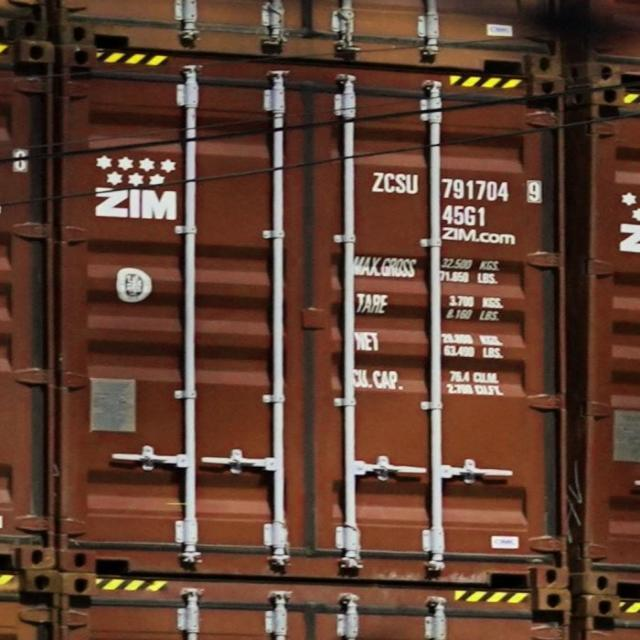ISO: (441, 204, 486, 228)
container_number: (368, 170, 548, 202)
